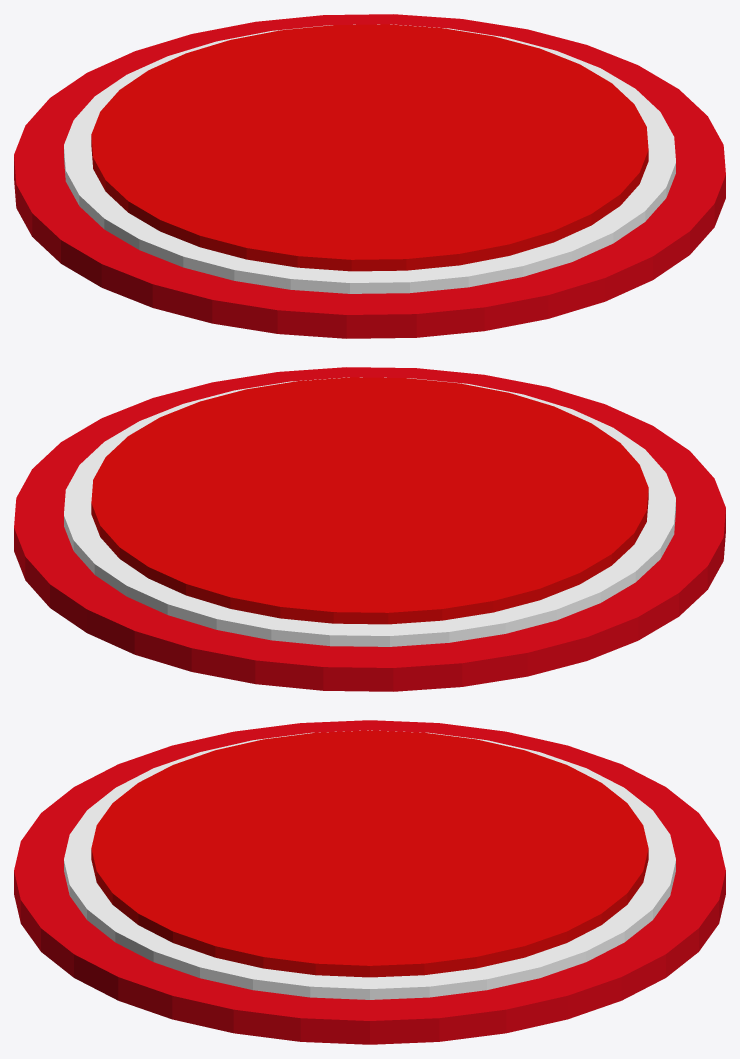
Rendered from bullseye.glb.
3 renders of one model, top to bottom at view 1: azimuth 30°, elevation 25°; view 2: azimuth 150°, elevation 25°; view 3: azimuth 270°, elevation 25°, orthographic.
Parts seen in each view (by area): view 1: Cylinder.002, Cylinder, Cylinder.001; view 2: Cylinder.002, Cylinder, Cylinder.001; view 3: Cylinder.002, Cylinder, Cylinder.001.
Boxes of the visible parts, x1=… form: Cylinder.002: x1=91, y1=24, x2=648, y2=271; Cylinder: x1=14, y1=14, x2=725, y2=338; Cylinder.001: x1=64, y1=24, x2=675, y2=293; Cylinder.002: x1=91, y1=377, x2=648, y2=624; Cylinder: x1=14, y1=367, x2=725, y2=691; Cylinder.001: x1=64, y1=377, x2=675, y2=646; Cylinder.002: x1=91, y1=730, x2=648, y2=977; Cylinder: x1=14, y1=720, x2=725, y2=1044; Cylinder.001: x1=64, y1=730, x2=675, y2=999.
Size of the model in its own units: 6.56 by 0.6968 by 6.56.
